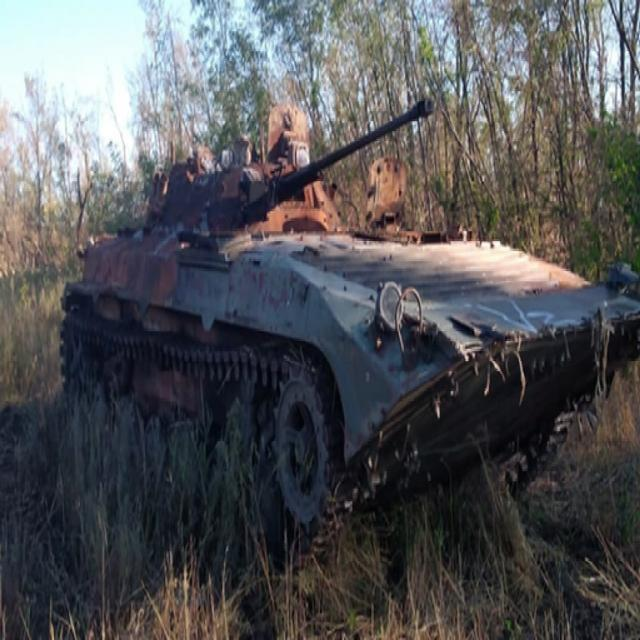APC-IFV: (61, 96, 639, 540)
